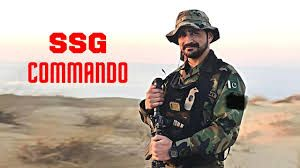gun: (143, 77, 170, 167)
uniform: (139, 52, 237, 166)
